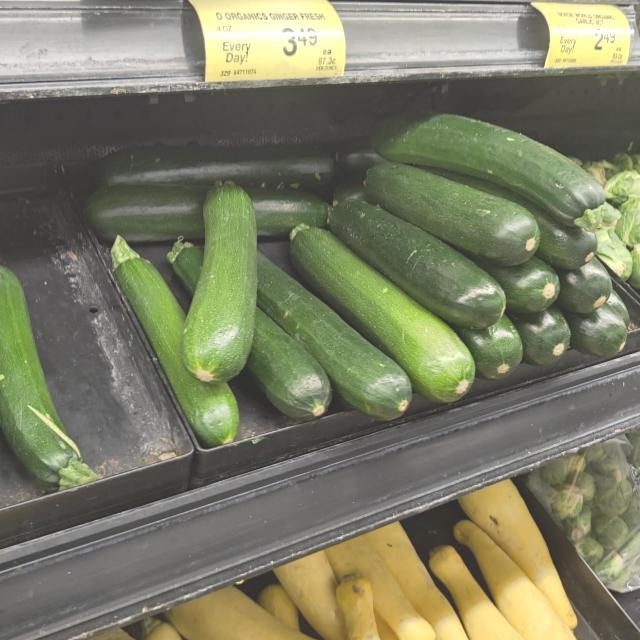Zuccini: (291, 221, 481, 400), (235, 234, 400, 421), (390, 107, 613, 241), (109, 236, 242, 447), (0, 258, 97, 500), (370, 162, 538, 284), (188, 172, 254, 374)
